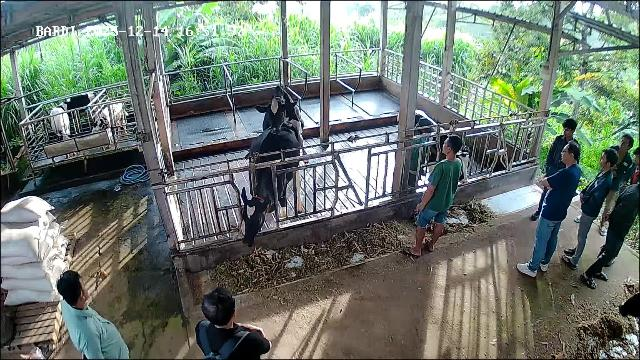mounting: (254, 85, 310, 168)
